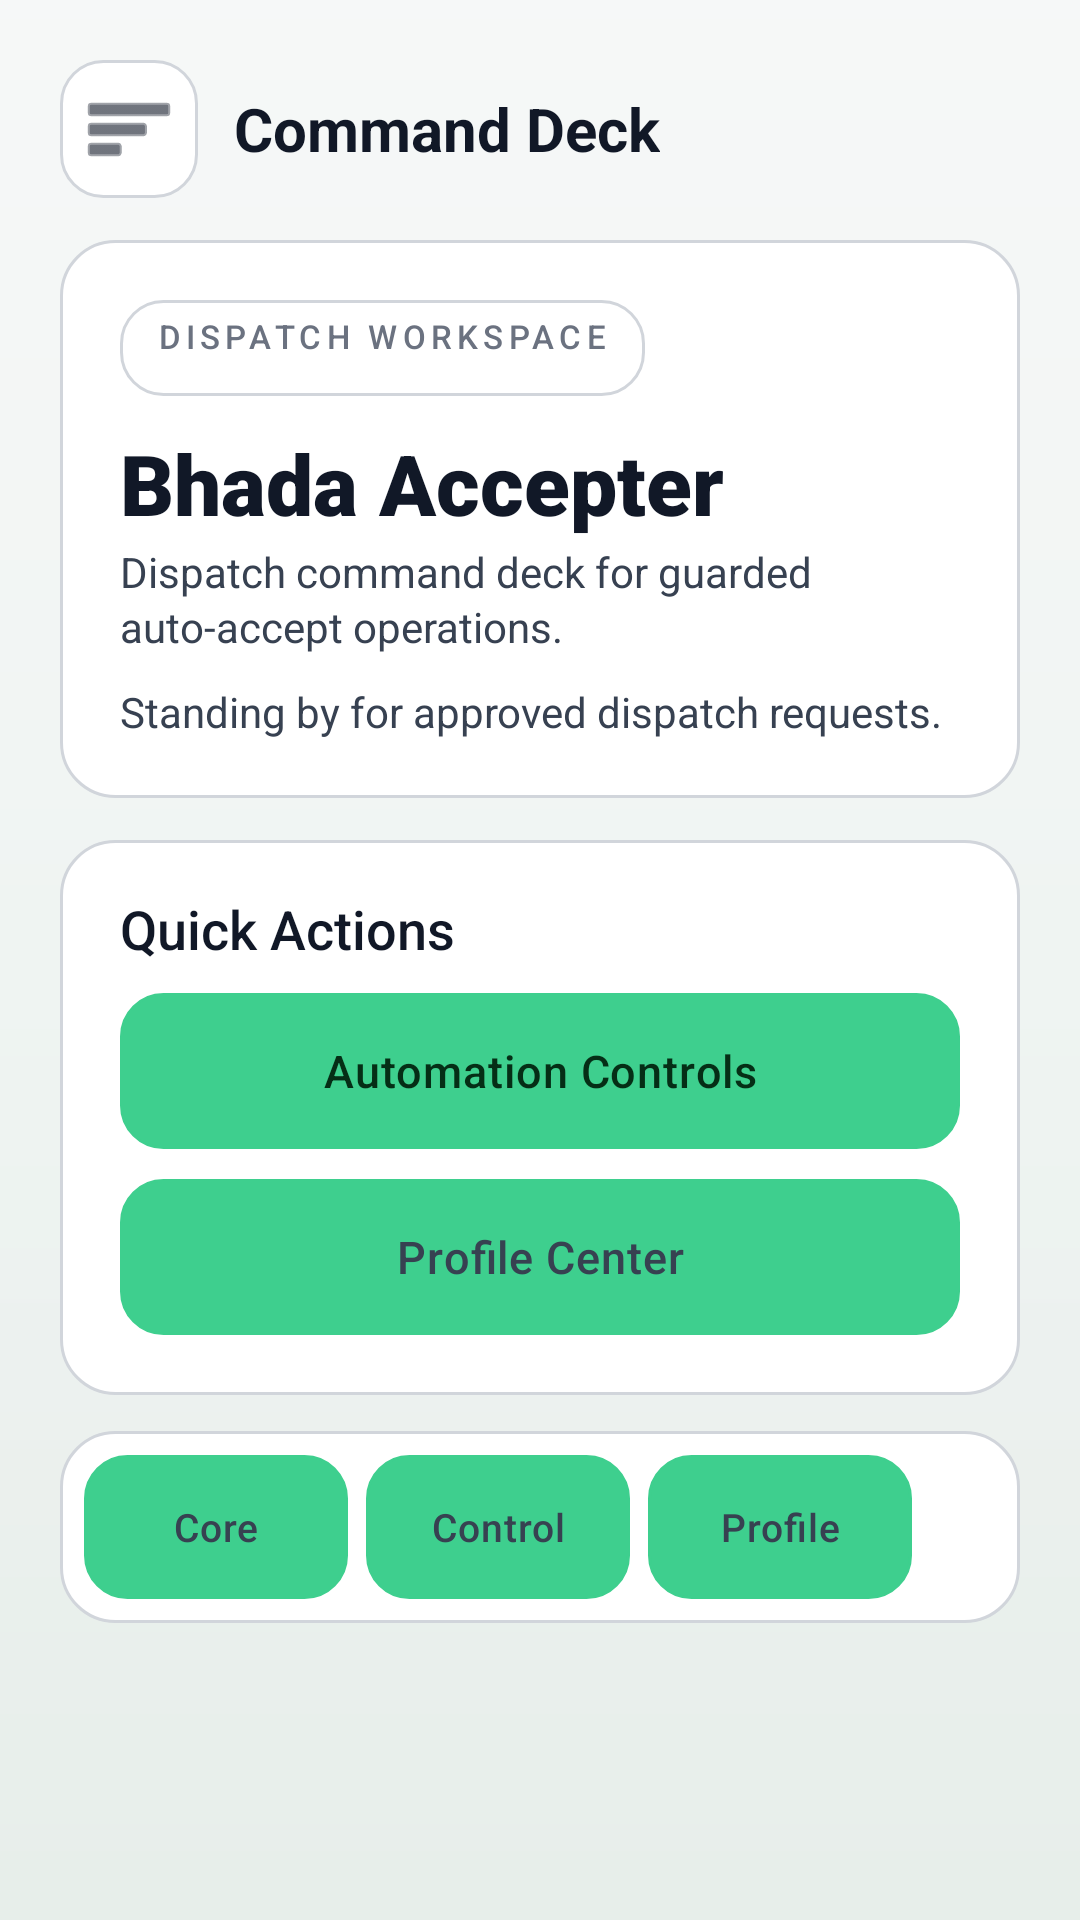

Locate icon controls on the screen. Image size 1080 × 1920, boxes as (x1, y1, x2, y2).
Open Sidebar: (60, 60, 198, 198)
